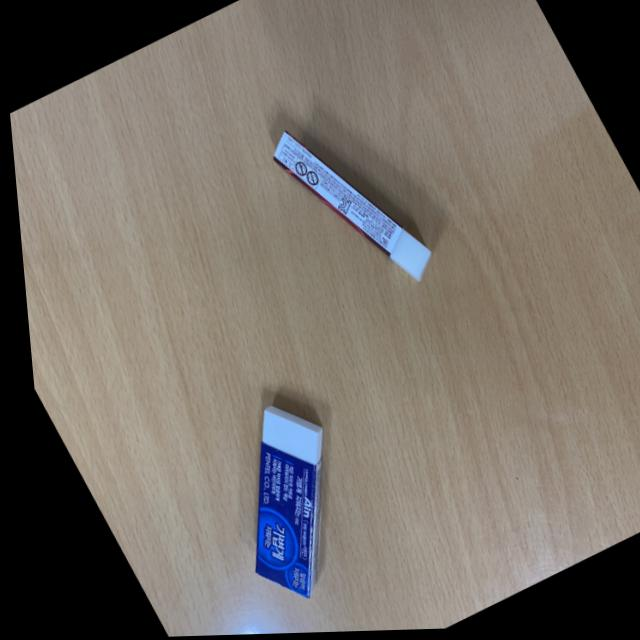blue: (160, 369, 400, 630)
red: (248, 90, 446, 321)
